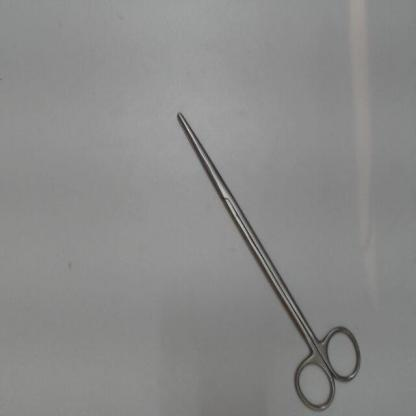9 Metzenbaum Scissors: (172, 104, 367, 415)
